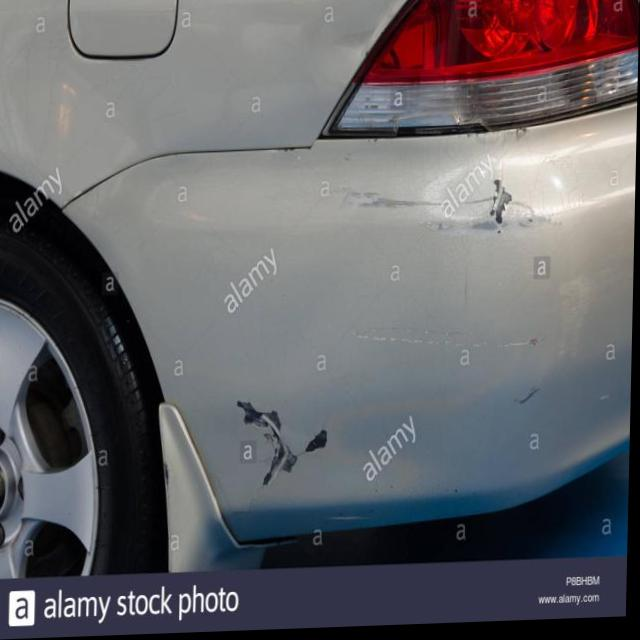Scratch: (345, 173, 563, 263), (225, 379, 347, 499)
